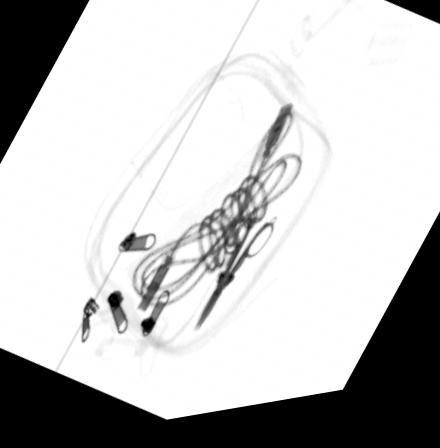Scissors: (190, 225, 277, 338)
